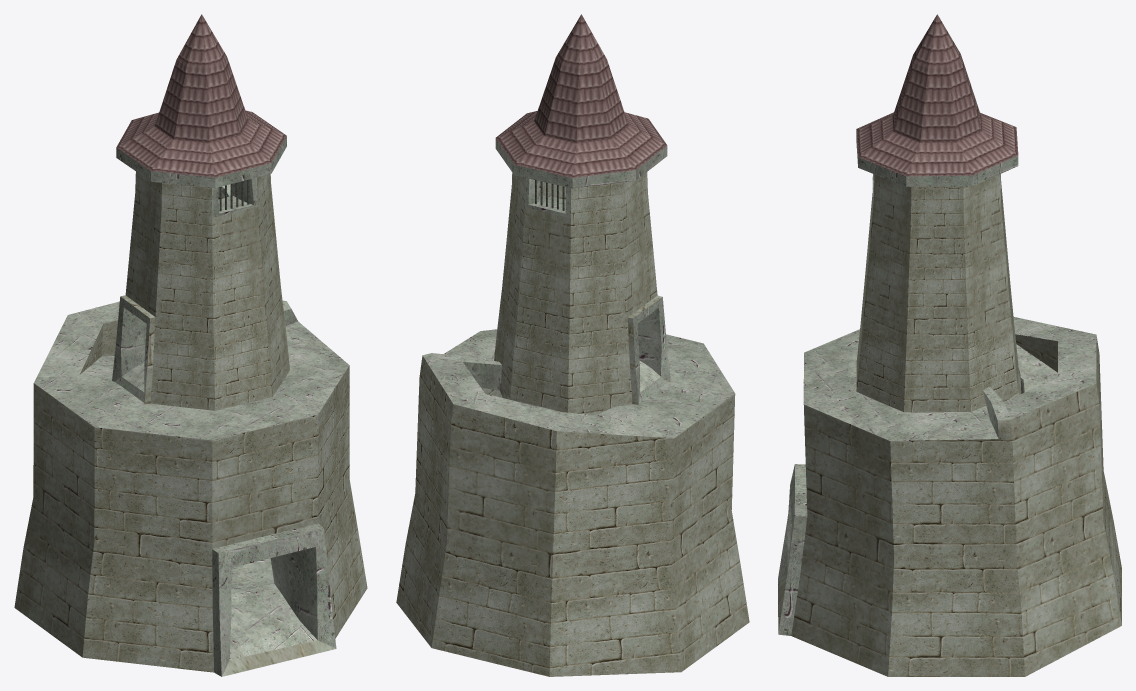
File: towerB.FBX
3 renders of one model, left to right at view 1: azimuth 30°, elevation 25°; view 2: azimuth 150°, elevation 25°; view 3: azimuth 270°, elevation 25°, orthographic.
Parts seen in each view (by area): view 1: tower_B_base; view 2: tower_B_base; view 3: tower_B_base.
Part boxes in pixels (x1=…): tower_B_base: x1=14, y1=14, x2=367, y2=676; tower_B_base: x1=396, y1=14, x2=749, y2=676; tower_B_base: x1=778, y1=14, x2=1121, y2=676.
Bounding box in the file's own units: 14.43 × 28.59 × 15.01.
